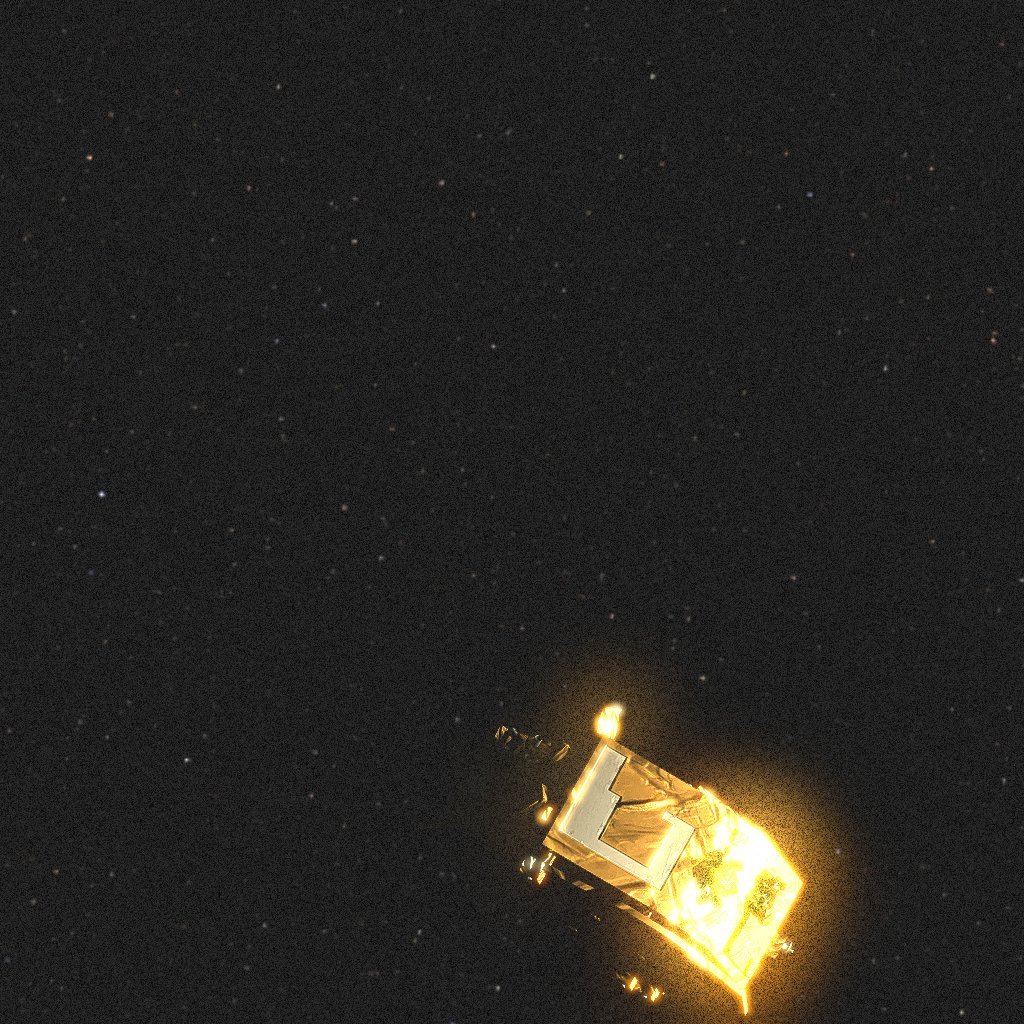lisa_pathfinder: (414, 703, 802, 1024)
